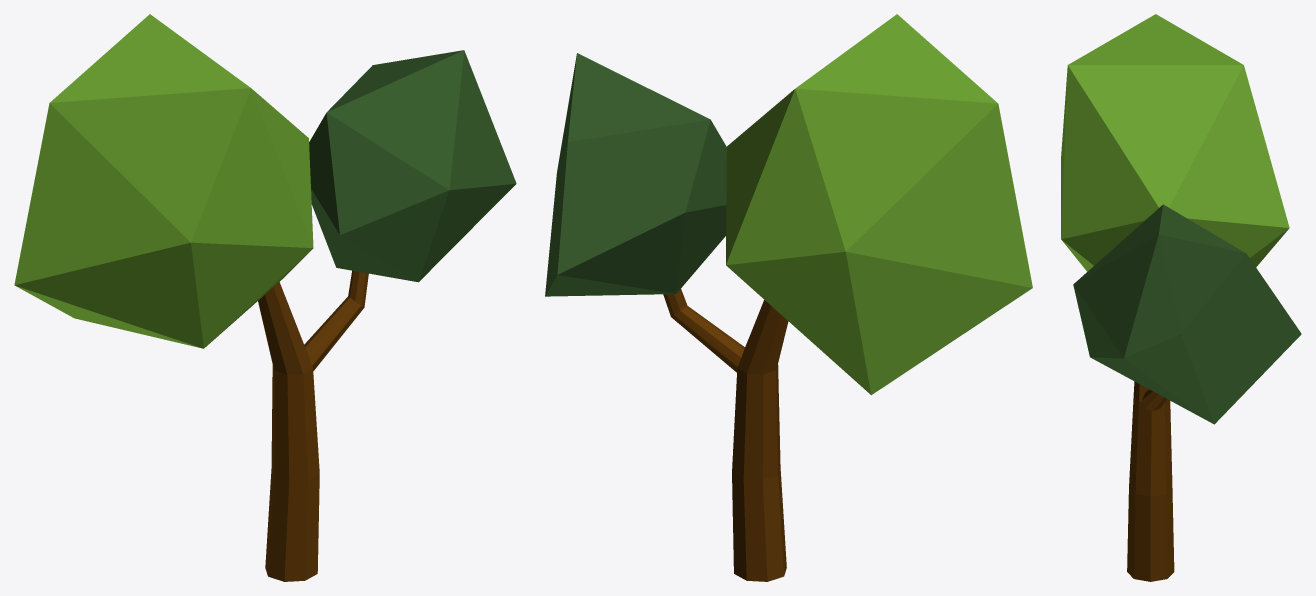
Rendered from Tree14.fbx.
3 renders of one model, left to right at view 1: azimuth 30°, elevation 25°; view 2: azimuth 150°, elevation 25°; view 3: azimuth 270°, elevation 25°, orthographic. The views are drawn at different scales.
Parts seen in each view (by area): view 1: Tree14; view 2: Tree14; view 3: Tree14.
Boxes of the visible parts, bbox=[...] form: Tree14: bbox=[14, 14, 516, 581]; Tree14: bbox=[545, 14, 1032, 581]; Tree14: bbox=[1061, 14, 1301, 581].
Bounding box in the file's own units: 326 × 348 × 162.
